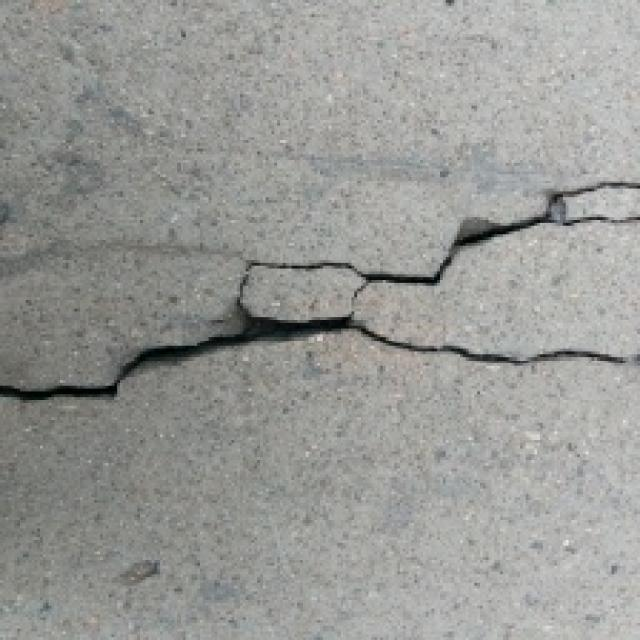crack: (2, 172, 640, 430)
